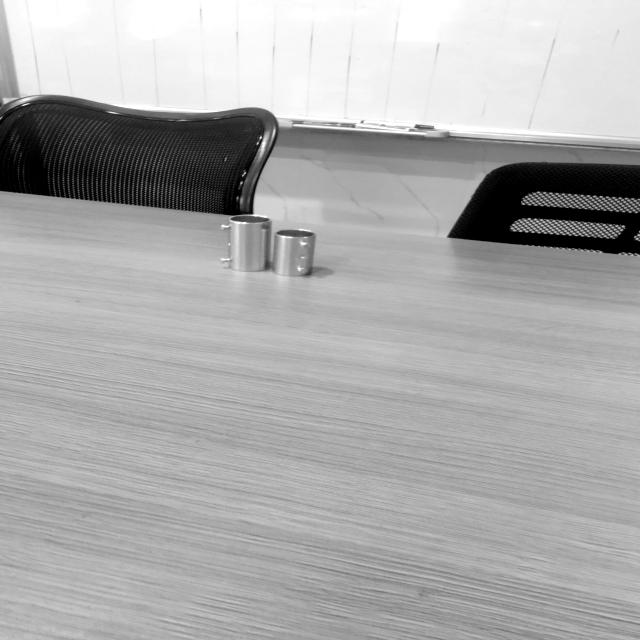Co_Lon: (220, 214, 272, 272)
Co_Nho: (270, 227, 316, 279)
